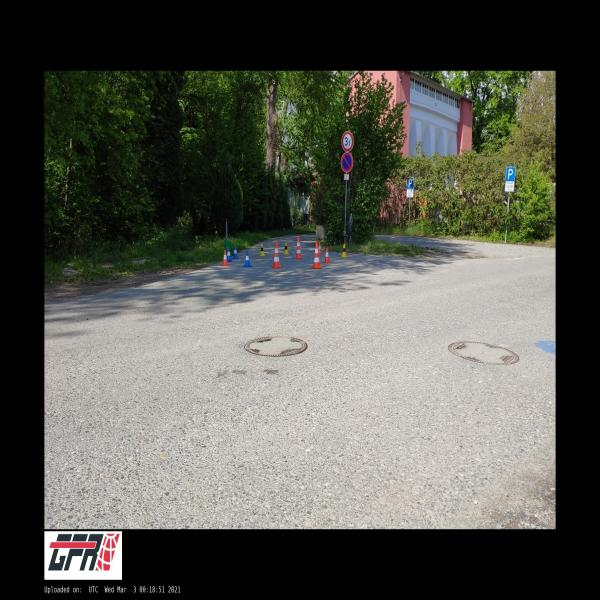blue_cone: (242, 252, 252, 268), (232, 246, 239, 259), (227, 248, 232, 262)
large_orange_cone: (271, 242, 282, 268), (312, 242, 322, 269), (294, 236, 303, 258)
orange_cone: (222, 250, 230, 266), (324, 248, 330, 263), (319, 243, 321, 254)
yellow_cone: (259, 244, 266, 256), (341, 244, 347, 258), (284, 243, 290, 255)
